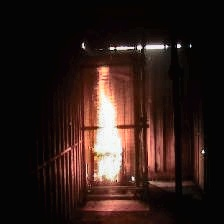fire: (87, 73, 121, 184)
